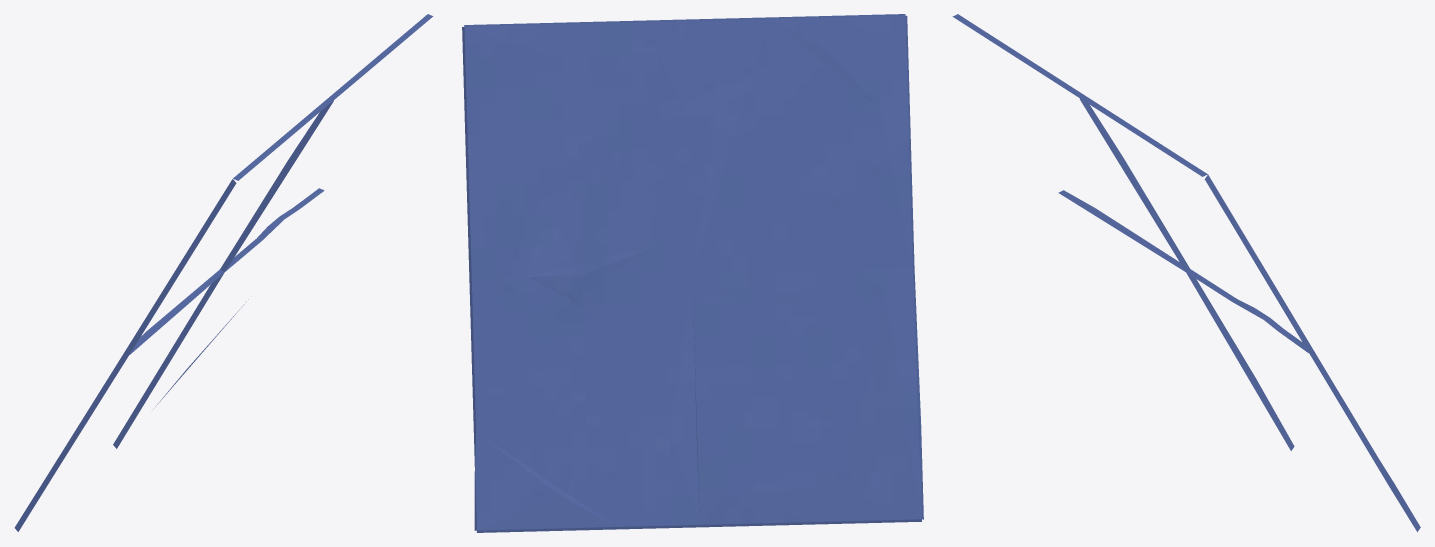
The picture shows the model from 3 angles, left to right: view 1: azimuth 30°, elevation 25°; view 2: azimuth 150°, elevation 25°; view 3: azimuth 270°, elevation 25°; orthographic projection. The views are drawn at different scales.
Size of the model in its own units: 79142 by 69086 by 70584.
Materials: 1 (1 with a texture image).
